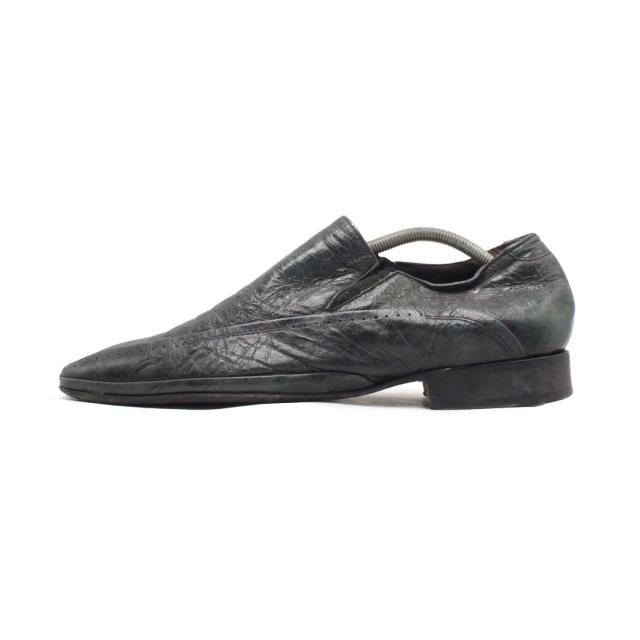heel: (495, 230, 574, 358)
midsole: (59, 351, 573, 412)
uppersole: (65, 214, 505, 381)
